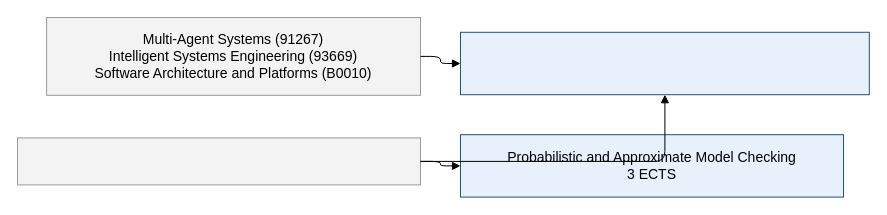
The diagram is 887 pixels wide and 215 high, and some of its shapes have lost their labels. Each missing label, with the box of its shape:
Advanced Software Modelling and Design (B0009): (16, 137, 420, 185)
Foundations of Complex and Autonomous Systems 3 ECTS: (460, 31, 869, 95)
